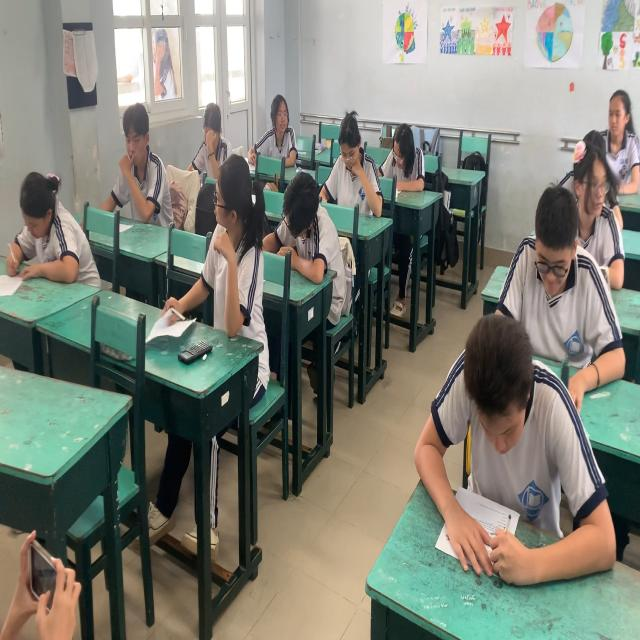cheating: (204, 153, 262, 358)
not_cheating: (416, 312, 610, 596), (512, 185, 596, 395), (11, 167, 76, 281), (109, 102, 169, 225), (276, 177, 342, 260), (332, 109, 381, 218), (573, 150, 618, 250), (383, 111, 424, 198), (258, 91, 300, 167), (600, 70, 632, 146), (191, 105, 231, 160)
